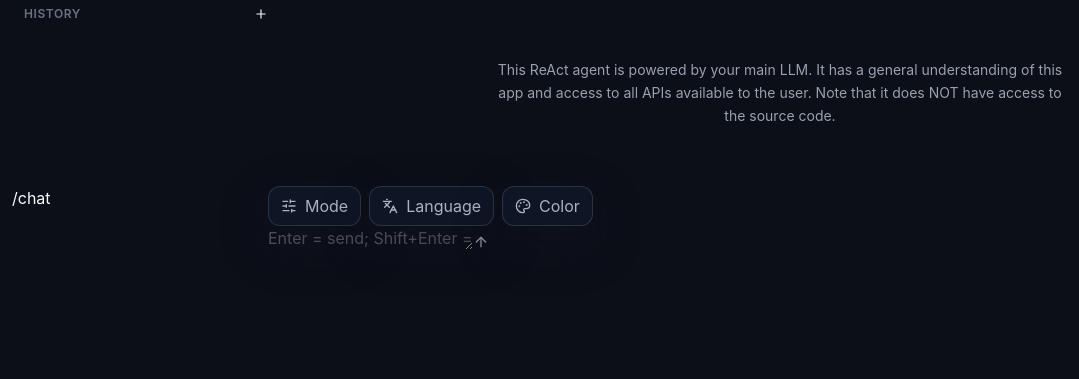
Test: ChatPage slash commands › refuses an unknown command and /compact with nothing to summarize
The image size is (1079, 379).
Type "/model" into the text box with test id "chat-input" at (370, 238), box x1=268 y1=226 x2=473 y2=250
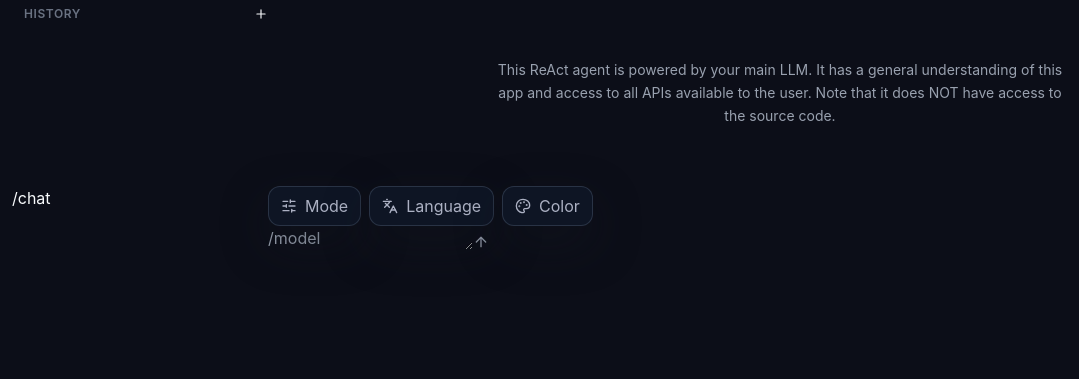
Click the button with test id "chat-send" at (481, 242), box x1=473 y1=234 x2=489 y2=250
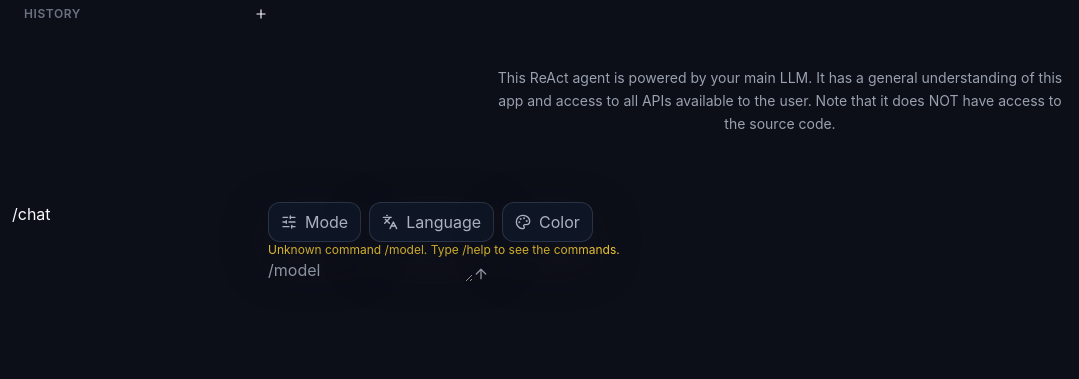
Now the text with test id "chat-error" reads "Unknown command /model. Type /help to see the commands.", box x1=268 y1=242 x2=620 y2=257
Replace the text in the text box with test id "chat-input" with "/compact" at (370, 270), box x1=268 y1=258 x2=473 y2=282
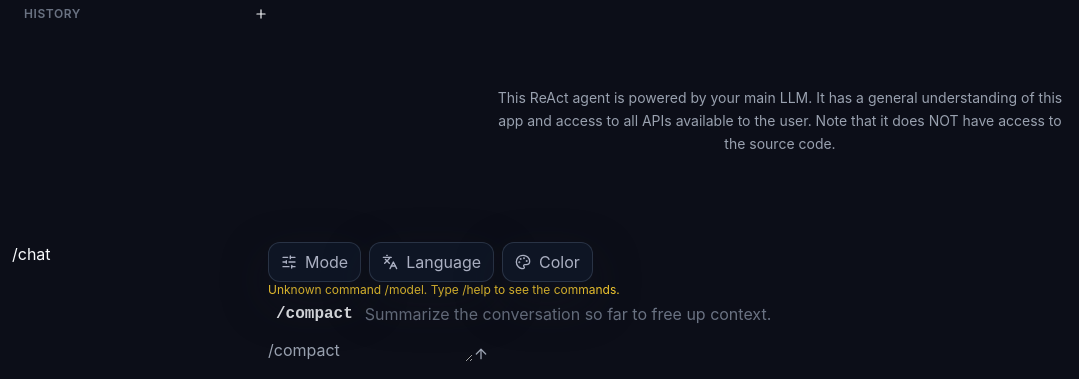
Click the button with test id "chat-send" at (481, 354), box x1=473 y1=346 x2=489 y2=362
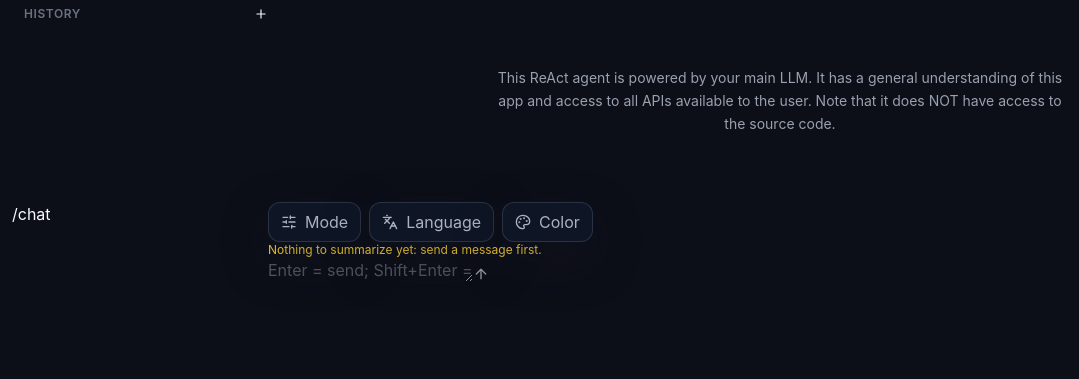
Now the text with test id "chat-error" reads "Nothing to summarize yet: send a message first.", box x1=268 y1=242 x2=542 y2=257
